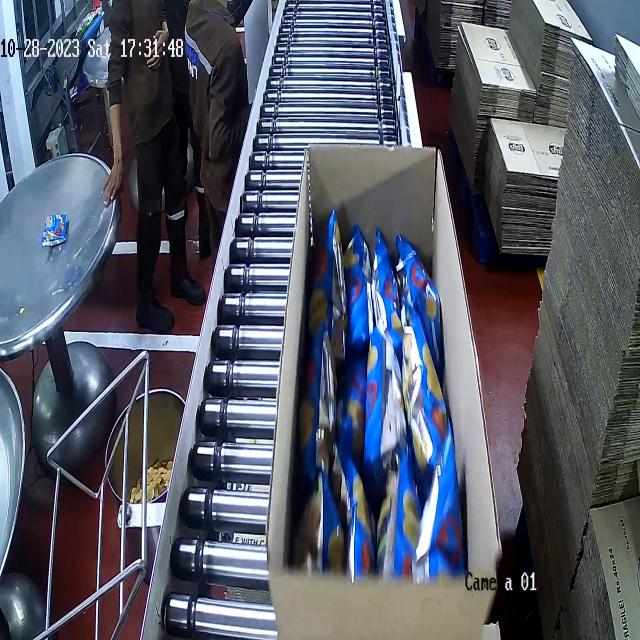PAPRIKA: (305, 212, 470, 579)
